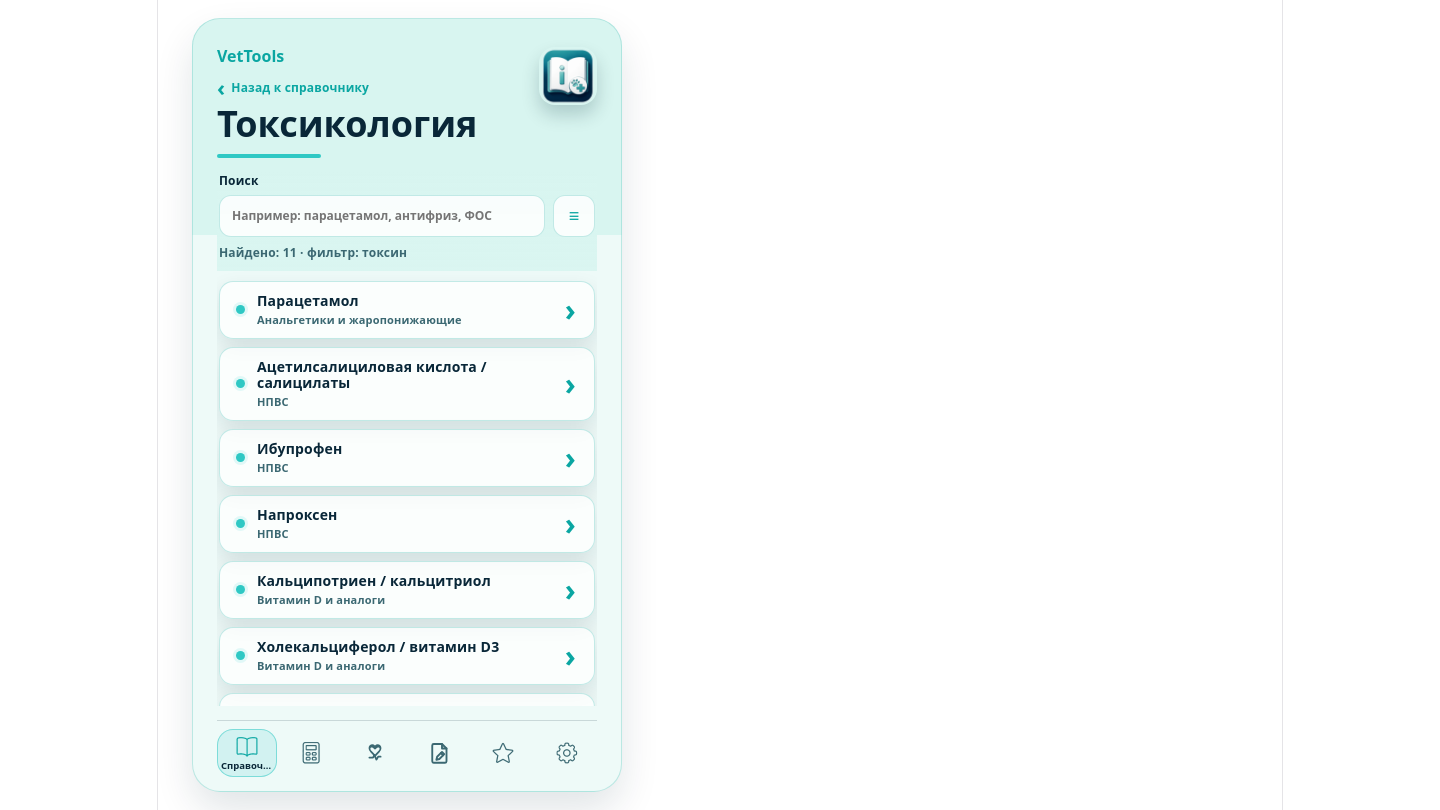
Test: ToxicologyReferencePage › opens a first-list poison card as a separate page
Click the link named "Парацетамол. Открыть карточку яда".
click(407, 310)  # box [219,281,595,339]
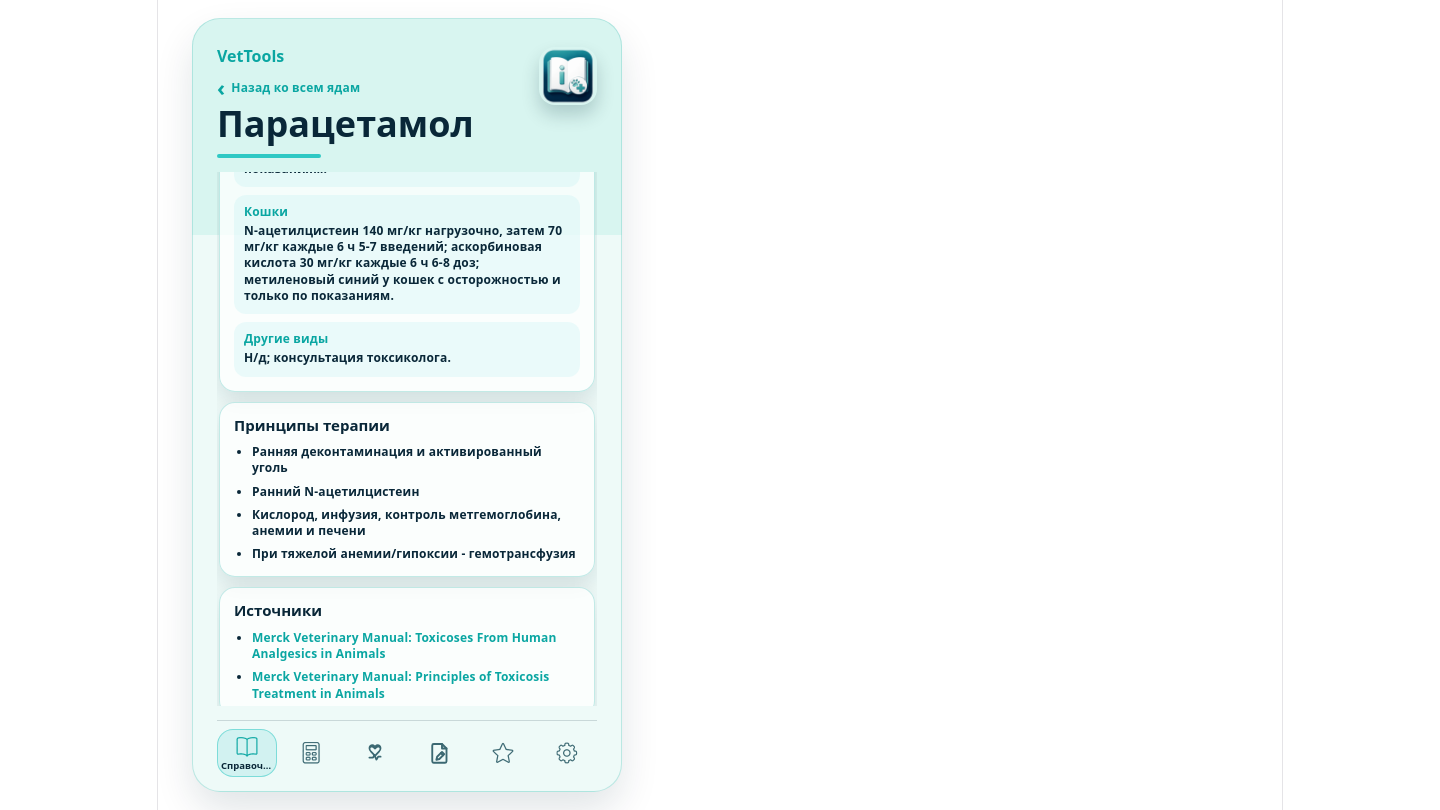
Result: the heading "Парацетамол" is shown at [217,106,467,158]
Result: the heading "Принципы терапии" is shown at [234,415,390,435]
